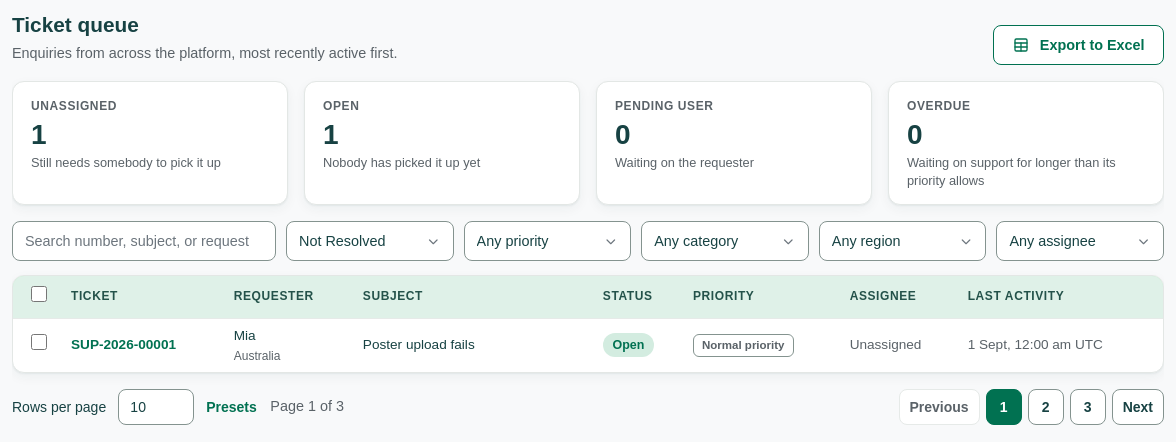
Test: the counter cards › shows the Overdue filter in the status dropdown once the card is clicked
Click the button "Overdue".
click(939, 106)  # box [907,98,970,115]
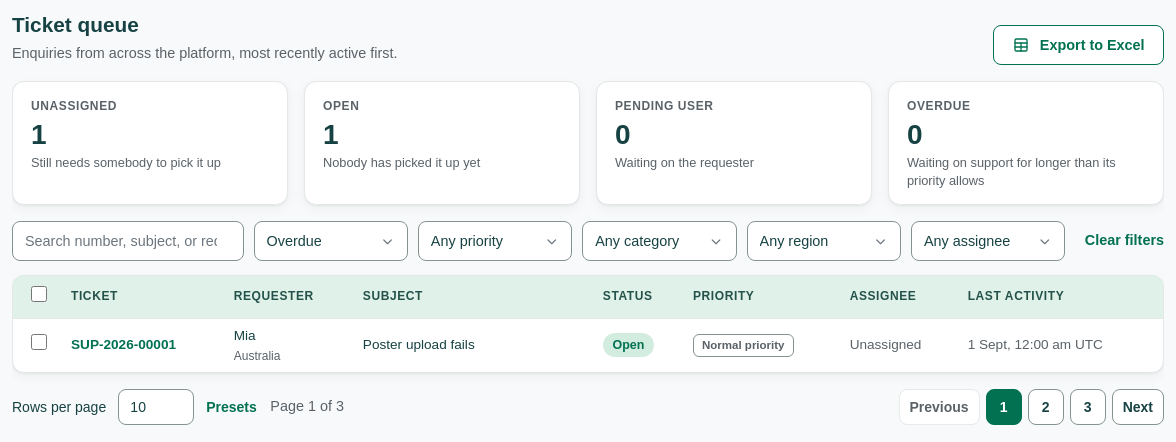
Check: the button with aria-label "Filter by status" reads "Overdue", box [266,233,371,249]
